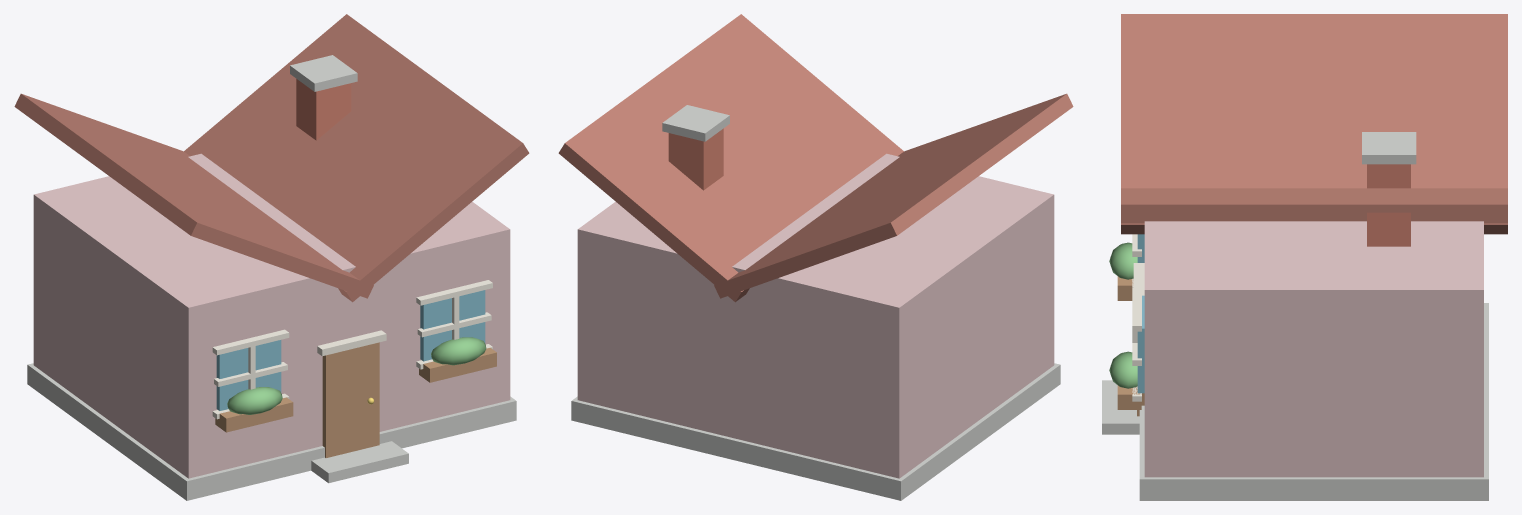
Rendered from house_3.glb.
3 renders of one model, left to right at view 1: azimuth 30°, elevation 25°; view 2: azimuth 150°, elevation 25°; view 3: azimuth 270°, elevation 25°, orthographic. The views are drawn at different scales.
Parts seen in each view (by area): view 1: house, gable_roof (×2), foundation, door, window (×2), flower_box (×2), chimney, flowers (×2), door_step, chimney_cap, window_trim (×2), window_frame (×2) (+1 smaller); view 2: house, gable_roof (×2), foundation, chimney, chimney_cap; view 3: house, gable_roof (×2), foundation, chimney, chimney_cap, flowers (×2), door_step, window, flower_box, window_trim.
Boxes of the visible parts, x1,y1,x2,y2 form: house: (33,153,510,478); gable_roof (×2): (14,14,529,302); foundation: (27,363,516,500); door: (322,342,379,457); window (×2): (216,290,485,410); flower_box (×2): (215,347,496,432); chimney: (296,79,351,140); flowers (×2): (227,337,486,414); door_step: (311,441,408,483); chimney_cap: (290,55,357,91); window_trim (×2): (212,280,492,355); window_frame (×2): (214,312,491,386); house: (577,153,1054,478); gable_roof (×2): (558,14,1073,302); foundation: (571,363,1060,500); chimney: (668,128,723,190); chimney_cap: (662,105,729,141); house: (1144,221,1483,477); gable_roof (×2): (1121,14,1507,234); foundation: (1139,303,1488,500); chimney: (1367,164,1410,246); chimney_cap: (1362,132,1416,164); flowers (×2): (1109,242,1137,388); door_step: (1102,380,1139,434); window: (1137,295,1144,393); flower_box: (1117,385,1141,409); window_trim: (1132,287,1141,331).
Bounding box in the file's own units: 6.32 × 5.13 × 5.97.
